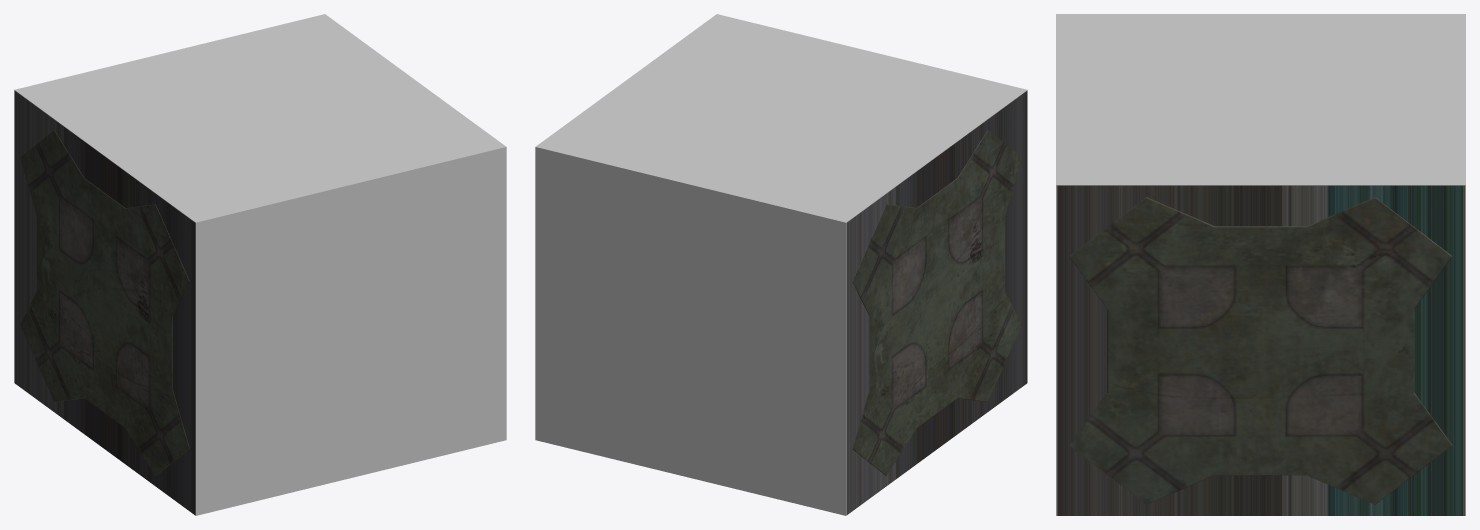
Rendered from SciFi_crate_01.DAE.
3 views of the same model, side by side, from view 1: azimuth 30°, elevation 25°; view 2: azimuth 150°, elevation 25°; view 3: azimuth 270°, elevation 25° (orthographic). The views are drawn at different scales.
Visible parts, largest first — view 1: bounds, LP_crateNew, colbox-01; view 2: bounds, LP_crateNew, colbox-01; view 3: LP_crateNew, bounds, colbox-01.
Part boxes in pixels (x1,y1,x2,y2): bounds: (14,14,506,515); LP_crateNew: (20,130,189,475); colbox-01: (14,91,195,514); bounds: (535,14,1027,515); LP_crateNew: (852,130,1021,475); colbox-01: (846,91,1027,514); LP_crateNew: (1069,197,1452,504); bounds: (1056,14,1465,515); colbox-01: (1057,185,1464,515).
Bounding box in the file's own units: 125 × 126 × 113.
